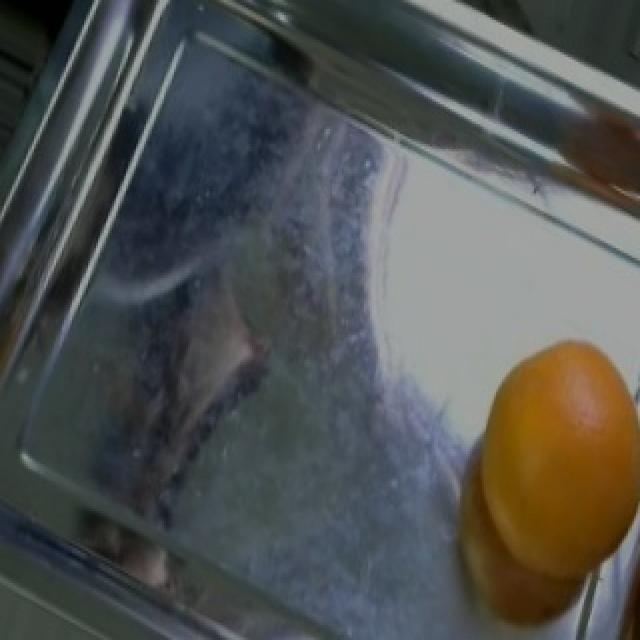Fruit: (448, 317, 638, 640)
